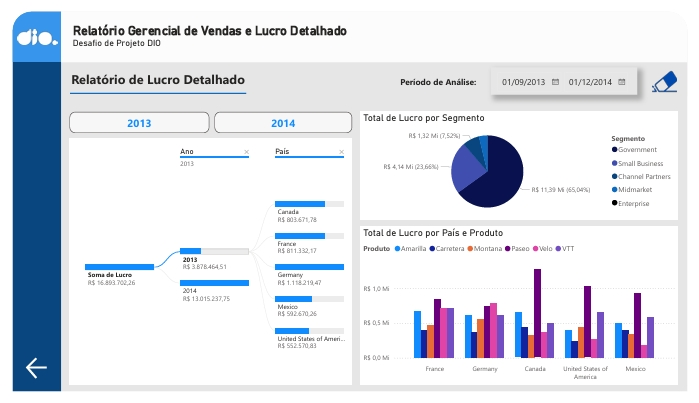

Layout of this report page (visuals, bound fields, positions):
{"tool":"powerbi","page":{"name":"Lucro","canvas":[1280,720],"ordinal":1},"visuals":[{"type":"shape","box":[0,0,1280.2,720],"z":0},{"type":"shape","box":[109.1,142.6,334.1,24.5],"z":0,"group":"g1"},{"type":"shape","box":[0,0,92.2,720],"z":1000},{"type":"textbox","box":[106.2,106.6,371.7,51.7],"z":1000,"group":"g1"},{"type":"shape","box":[0,0,92.2,95],"z":2000},{"type":"image","title":"Logo DIO","box":[9.3,10.7,76,76.7],"z":3000},{"type":"actionButton","title":"Voltar","box":[0,650.9,92.2,50.4],"z":4000},{"type":"shape","box":[92.1,0,1187.9,95.6],"z":5000},{"type":"textbox","title":"Título","box":[109,0,594,73.1],"z":6000},{"type":"group","id":"g1","title":"Tema do Relatório","box":[106.2,106.6,371.7,60.5],"z":7000},{"type":"image","title":"Limpar Filtros","box":[1212.5,109.4,50.4,46.1],"z":8000},{"type":"slicer","fields":{"Values":["financials.Data"]},"box":[907.2,105.1,277.9,53.3],"z":9000},{"type":"textbox","box":[708.5,103.7,198.7,53.3],"z":10000},{"type":"decompositionTreeVisual","title":"Hierarquia Lucro x País","fields":{"Analyze":["Sum(financials.Lucro)"],"ExplainBy":["financials.Data.Variation.Hierarquia de datas.Ano","financials.País"]},"box":[108,240.5,535.7,468],"z":11000},{"type":"group","id":"g2","title":"Grupo 1","box":[107.6,190.1,535.7,40.3],"z":12000},{"type":"actionButton","title":"Hierarquia Lucro 2013","box":[107.6,190.1,265,40.3],"z":12000,"group":"g2"},{"type":"actionButton","title":"Hierarquia Lucro 2014","box":[382.6,190.1,260.6,40.3],"z":13000,"group":"g2"},{"type":"clusteredColumnChart","title":"Total de Lucro por País e Produto","fields":{"Y":["Sum(financials.Lucro)"],"Category":["financials.País"],"Series":["financials.Produto"]},"box":[659.5,407.5,603.4,301],"z":13000},{"type":"pieChart","title":"Total de Lucro por Segmento","fields":{"Y":["Sum(financials.Lucro)"],"Category":["financials.Segmento"]},"box":[659.5,190.1,603.4,204.5],"z":14000}]}

Visuals, with their boxes in screenshot pixels (x1, y1, x2, y2), scaled from the page's 1280x720 canvas onto the 699x403 screenshot:
shape: l=0, t=0, r=698, b=402
shape: l=60, t=80, r=242, b=94
shape: l=0, t=0, r=50, b=402
textbox: l=58, t=60, r=261, b=89
shape: l=0, t=0, r=50, b=53
"Logo DIO" image: l=5, t=6, r=47, b=49
"Voltar" actionButton: l=0, t=364, r=50, b=393
shape: l=50, t=0, r=698, b=54
"Título" textbox: l=60, t=0, r=384, b=41
"Tema do Relatório" group: l=58, t=60, r=261, b=94
"Limpar Filtros" image: l=662, t=61, r=690, b=87
slicer - financials.Data: l=495, t=59, r=647, b=89
textbox: l=387, t=58, r=495, b=88
"Hierarquia Lucro x País" decompositionTreeVisual: l=59, t=135, r=352, b=397
"Grupo 1" group: l=59, t=106, r=351, b=129
"Hierarquia Lucro 2013" actionButton: l=59, t=106, r=203, b=129
"Hierarquia Lucro 2014" actionButton: l=209, t=106, r=351, b=129
"Total de Lucro por País e Produto" clusteredColumnChart: l=360, t=228, r=690, b=397
"Total de Lucro por Segmento" pieChart: l=360, t=106, r=690, b=221
